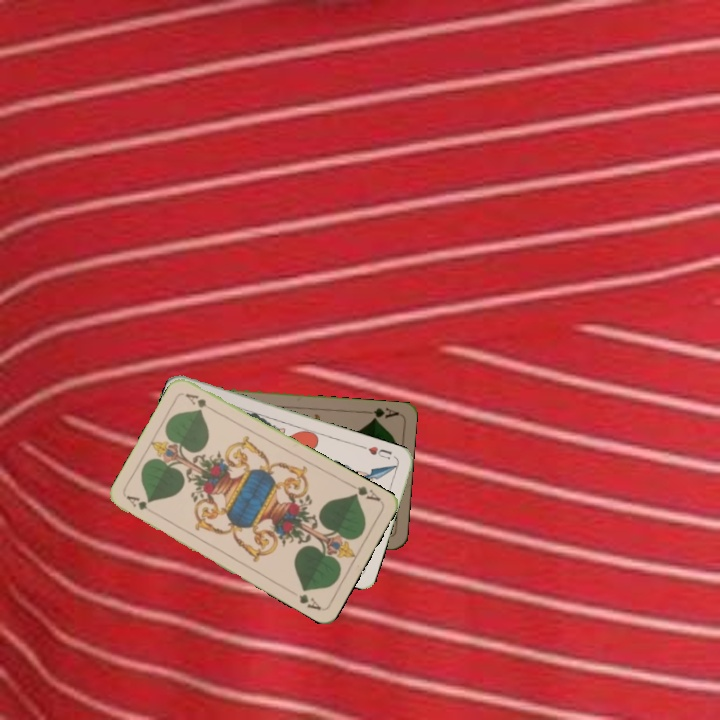GA: (346, 480, 383, 504), (361, 404, 401, 423), (122, 491, 150, 513)
HU: (359, 442, 394, 462)
